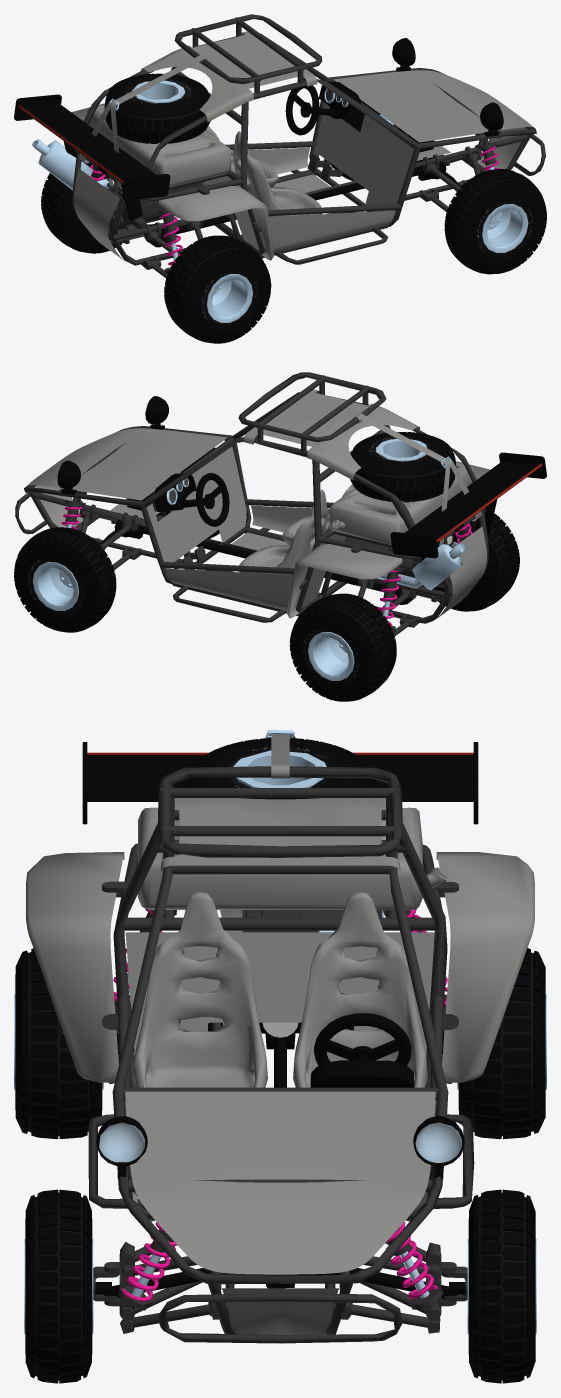
Rendered from viper_turbo_r.glb.
The picture shows the model from 3 angles, top to bottom: view 1: azimuth 30°, elevation 25°; view 2: azimuth 150°, elevation 25°; view 3: azimuth 270°, elevation 25°; orthographic projection. The views are drawn at different scales.
Visible parts, largest first — view 1: Plane.006_diffuse_0, Plane.007_hull_tubes_0, Cube.006_rubber_0, Cube.002_rubber_0, wing_blade, Cube.003_rubber_0, Cube.005_rubber_0, Cylinder.146_Black_plastic_0, BezierCircle.009_chroma_0, Cylinder.122_chroma_0, Cylinder.009_chroma_0, Cylinder.002_transmission_parts_0 (+2 smaller); view 2: Plane.006_diffuse_0, Plane.007_hull_tubes_0, Cube.005_rubber_0, Cube.004_rubber_0, wing_blade, Cube.003_rubber_0, Cube.006_rubber_0, BezierCircle.009_chroma_0, Cylinder.146_Black_plastic_0, Cylinder.123_chroma_0, Cylinder.136_chroma_0, Cylinder.002_transmission_parts_0 (+2 smaller); view 3: Plane.006_diffuse_0, Plane.007_hull_tubes_0, Cube.004_rubber_0, Cube.002_rubber_0, Cube.006_rubber_0, Cube.005_rubber_0, wing_blade, BezierCircle.009_chroma_0, Cylinder.146_Black_plastic_0, Cube.003_rubber_0, Sphere_white_glass_0, Cylinder.002_transmission_parts_0 (+5 smaller).
Boxes of the visible parts, x1,y1,x2,y2 form: Plane.006_diffuse_0: [71, 31, 531, 260]; Plane.007_hull_tubes_0: [72, 14, 545, 278]; Cube.006_rubber_0: [164, 235, 271, 343]; Cube.002_rubber_0: [444, 169, 546, 274]; wing_blade: [14, 94, 170, 220]; Cube.003_rubber_0: [104, 73, 210, 144]; Cube.005_rubber_0: [41, 161, 123, 253]; Cylinder.146_Black_plastic_0: [98, 38, 503, 174]; BezierCircle.009_chroma_0: [32, 80, 493, 260]; Cylinder.122_chroma_0: [206, 274, 252, 322]; Cylinder.009_chroma_0: [482, 204, 528, 252]; Cylinder.002_transmission_parts_0: [144, 120, 461, 253]; Plane.006_diffuse_0: [29, 389, 489, 618]; Plane.007_hull_tubes_0: [15, 372, 488, 636]; Cube.005_rubber_0: [289, 593, 396, 701]; Cube.004_rubber_0: [14, 527, 116, 632]; wing_blade: [390, 452, 546, 562]; Cube.003_rubber_0: [350, 432, 456, 502]; Cube.006_rubber_0: [433, 513, 519, 611]; BezierCircle.009_chroma_0: [66, 439, 465, 619]; Cylinder.146_Black_plastic_0: [57, 396, 463, 531]; Cylinder.123_chroma_0: [308, 632, 354, 680]; Cylinder.136_chroma_0: [32, 562, 78, 611]; Cylinder.002_transmission_parts_0: [100, 509, 416, 611]; Plane.006_diffuse_0: [26, 734, 534, 1334]; Plane.007_hull_tubes_0: [88, 766, 474, 1343]; Cube.004_rubber_0: [468, 1189, 535, 1383]; Cube.002_rubber_0: [25, 1189, 92, 1383]; Cube.006_rubber_0: [15, 948, 102, 1139]; Cube.005_rubber_0: [458, 948, 545, 1139]; wing_blade: [82, 742, 478, 824]; BezierCircle.009_chroma_0: [99, 730, 461, 1298]; Cylinder.146_Black_plastic_0: [96, 1039, 464, 1178]; Cube.003_rubber_0: [185, 738, 376, 799]; Sphere_white_glass_0: [99, 1123, 461, 1162]; Cylinder.002_transmission_parts_0: [104, 1022, 456, 1297].
Bounding box in the file's own units: 3.66 × 1.73 × 2.07.
Materials: 12 (1 with a texture image).
